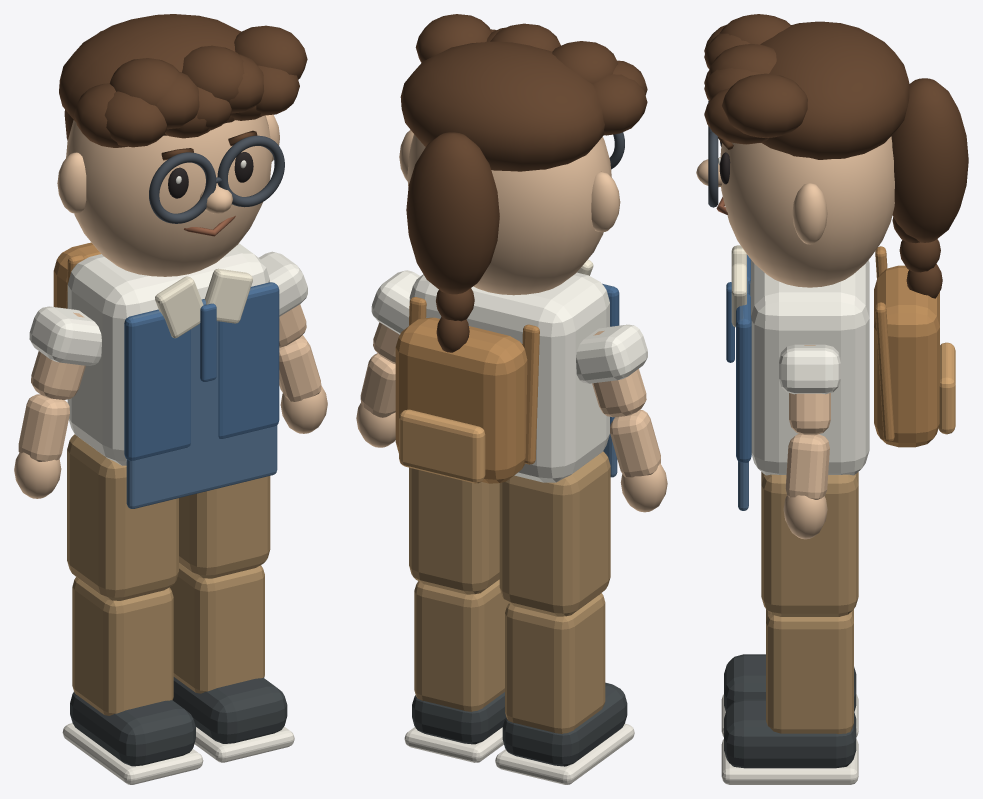
Rendered from modular-human.glb.
The picture shows the model from 3 angles, left to right: view 1: azimuth 30°, elevation 25°; view 2: azimuth 150°, elevation 25°; view 3: azimuth 270°, elevation 25°; orthographic projection.
Visible parts, largest first — view 1: module__outfit__apron__torso_mesh, student_knee_left_mesh, student_head, module__outfit__uniform__torso_mesh, student_knee_right_mesh, module__hair__braid__head_mesh, trouser_thigh, ponytail_geometry, trouser_thigh.001, student_elbow_left_mesh, module__accessory__glasses__head_mesh, student_elbow_right_mesh (+7 smaller); view 2: module__hair__braid__head_mesh, module__accessory__backpack__body_mesh, student_knee_left_mesh, module__outfit__apron__torso_mesh, student_knee_right_mesh, ponytail_geometry, trouser_thigh, student_head, trouser_thigh.001, student_elbow_left_mesh, sleeve.001, student_elbow_right_mesh (+4 smaller); view 3: module__hair__braid__head_mesh, module__outfit__apron__torso_mesh, student_knee_right_mesh, student_head, ponytail_geometry, module__accessory__backpack__body_mesh, trouser_thigh.001, student_elbow_right_mesh, module__outfit__uniform__torso_mesh, sleeve.004, student_knee_left_mesh, student_face_details (+2 smaller).
Boxes of the visible parts, box(x1,y1,x2,y2) form: module__outfit__apron__torso_mesh: box(67, 243, 277, 508); student_knee_left_mesh: box(62, 577, 203, 784); student_head: box(66, 115, 271, 276); module__outfit__uniform__torso_mesh: box(124, 282, 279, 460); student_knee_right_mesh: box(170, 563, 294, 762); module__hair__braid__head_mesh: box(59, 14, 307, 147); trouser_thigh: box(67, 434, 178, 600); ponytail_geometry: box(64, 23, 299, 147); trouser_thigh.001: box(179, 476, 270, 578); student_elbow_left_mesh: box(14, 394, 69, 498); module__accessory__glasses__head_mesh: box(149, 135, 284, 223); student_elbow_right_mesh: box(279, 335, 327, 433); module__hair__braid__head_mesh: box(400, 14, 647, 352); module__accessory__backpack__body_mesh: box(395, 297, 539, 483); student_knee_left_mesh: box(495, 593, 634, 784); module__outfit__apron__torso_mesh: box(409, 259, 617, 482); student_knee_right_mesh: box(404, 579, 508, 762); ponytail_geometry: box(406, 27, 647, 294); trouser_thigh: box(499, 451, 610, 616); student_head: box(407, 134, 611, 295); trouser_thigh.001: box(409, 467, 499, 594); student_elbow_left_mesh: box(610, 409, 667, 512); sleeve.001: box(576, 324, 647, 383); student_elbow_right_mesh: box(356, 353, 395, 447); module__hair__braid__head_mesh: box(707, 14, 942, 298); module__outfit__apron__torso_mesh: box(731, 245, 869, 510); student_knee_right_mesh: box(721, 609, 858, 784); student_head: box(720, 136, 894, 287); ponytail_geometry: box(704, 21, 968, 242); module__accessory__backpack__body_mesh: box(874, 246, 955, 447); trouser_thigh.001: box(761, 472, 858, 616); student_elbow_right_mesh: box(783, 433, 829, 539); module__outfit__uniform__torso_mesh: box(726, 255, 751, 462); sleeve.004: box(779, 344, 840, 394); student_knee_left_mesh: box(721, 654, 858, 736); student_face_details: box(716, 137, 827, 244).
Bounding box in the file's own units: 0.81 × 1.77 × 0.618.
